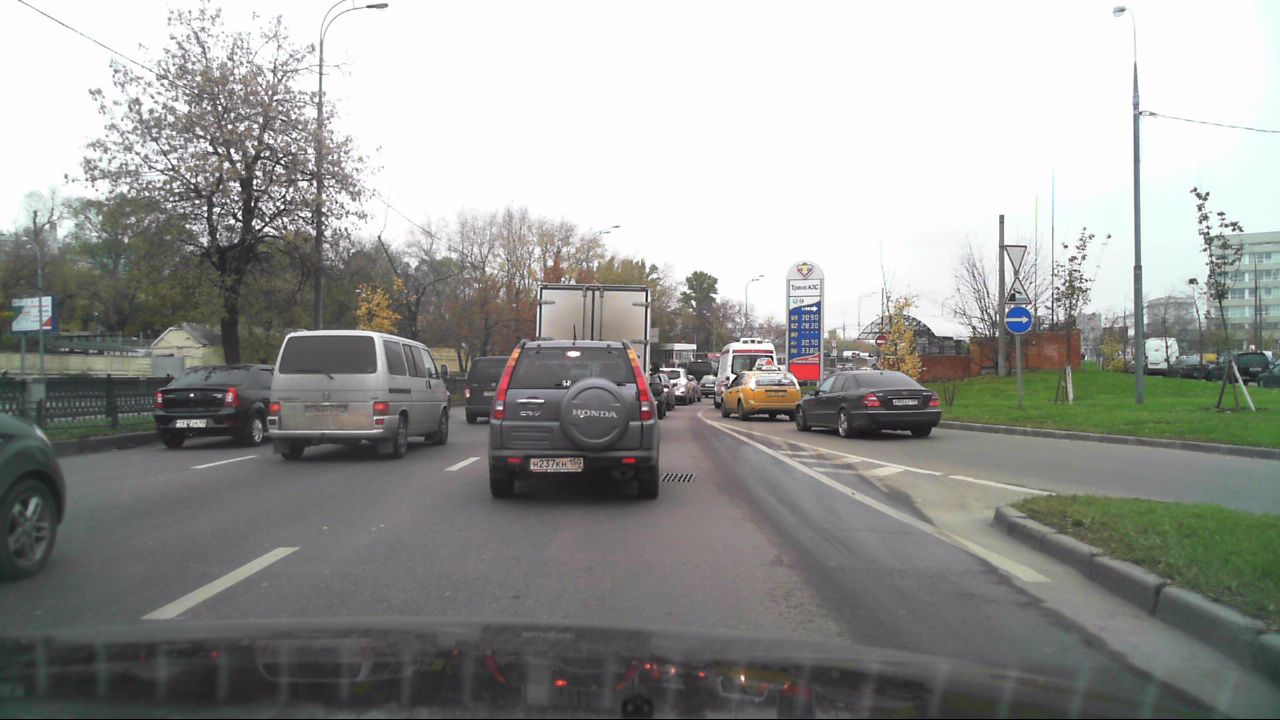Turn Right: (1004, 306, 1032, 334)
